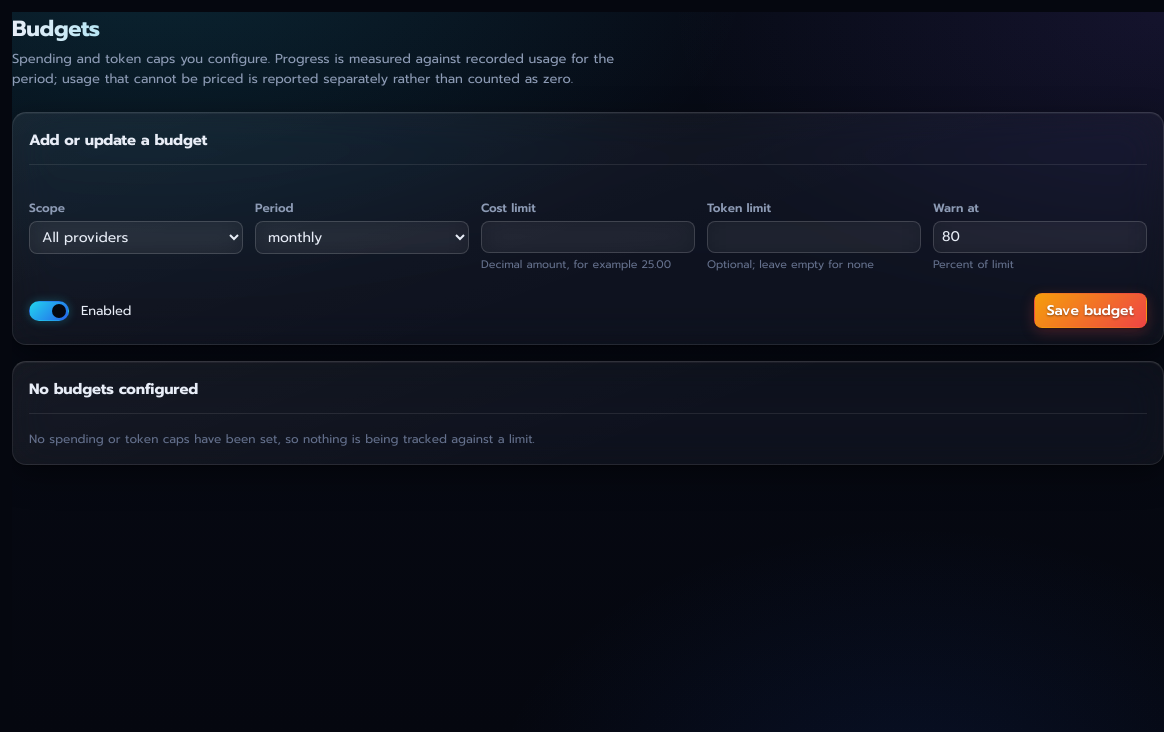
Test: BudgetsPage › uses the full provider display name in provider selectors
Select "One provider" in the dropdown labelled "Scope" at {"x": 136, "y": 237}, box [29, 220, 243, 254]
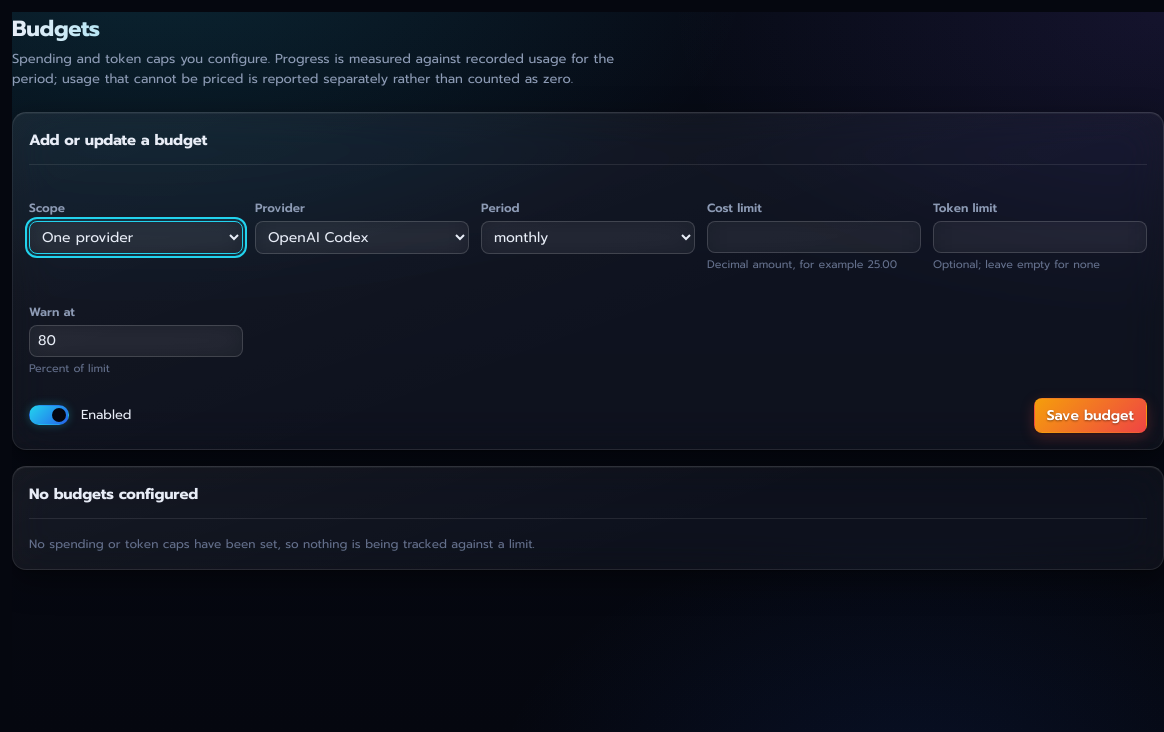
Result: the dropdown labelled "Provider" is shown at [255, 220, 469, 254]
